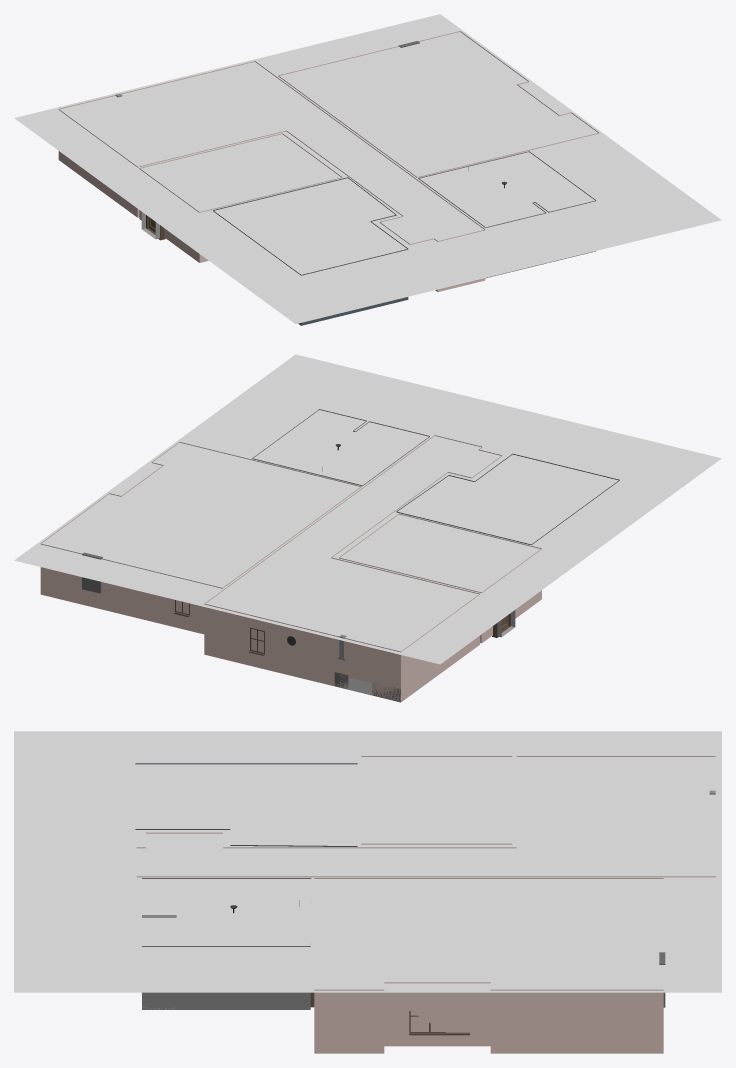
The model's file is FloorPlan.fbx.
The picture shows the model from 3 angles, top to bottom: view 1: azimuth 30°, elevation 25°; view 2: azimuth 150°, elevation 25°; view 3: azimuth 270°, elevation 25°; orthographic projection. The views are drawn at different scales.
Visible parts, largest first — view 1: pPlane1, polySurface429; view 2: pPlane1, polySurface429; view 3: pPlane1, polySurface429.
Part boxes in pixels (x1=…): pPlane1: x1=14, y1=14, x2=721, y2=323; polySurface429: x1=58, y1=31, x2=599, y2=325; pPlane1: x1=14, y1=354, x2=721, y2=664; polySurface429: x1=40, y1=409, x2=619, y2=702; pPlane1: x1=14, y1=731, x2=721, y2=992; polySurface429: x1=135, y1=756, x2=715, y2=1053.
Size of the model in its own units: 35.8 by 4.76 by 40.97.
